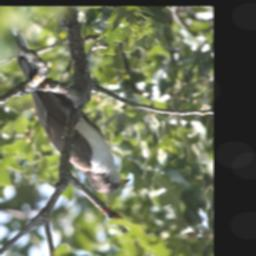Cuckoo: (2, 29, 132, 195)
